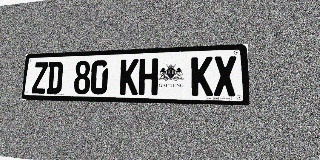0: (90, 60, 108, 95)
8: (73, 60, 91, 94)
D: (46, 61, 63, 94)
H: (138, 58, 158, 95)
K: (191, 56, 213, 96), (119, 59, 139, 95)
X: (214, 56, 237, 96)
Z: (32, 62, 48, 94)
